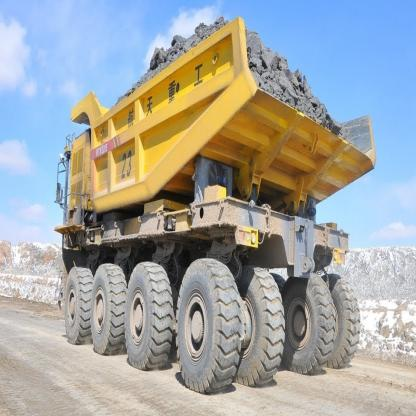dump_truck: (51, 22, 377, 389)
